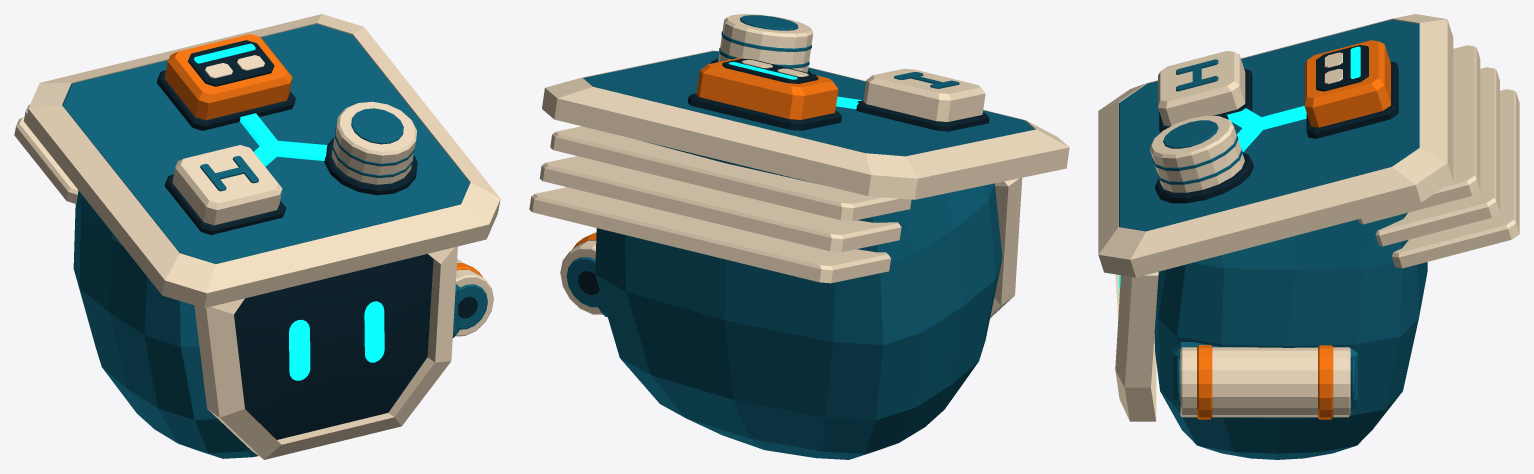
The model's file is copilot_architect_v01.glb.
3 renders of one model, left to right at view 1: azimuth 30°, elevation 25°; view 2: azimuth 150°, elevation 25°; view 3: azimuth 270°, elevation 25°, orthographic. The views are drawn at different scales.
Visible parts, largest first — view 1: pavilion_body, pavilion_eyes; view 2: pavilion_body; view 3: pavilion_body, pavilion_eyes.
Boxes of the visible parts, box(x1,y1,x2,y2) form: pavilion_body: box(14, 14, 500, 459); pavilion_eyes: box(194, 43, 384, 380); pavilion_body: box(529, 14, 1069, 459); pavilion_body: box(1098, 14, 1519, 459); pavilion_eyes: box(1119, 46, 1360, 297).
Bounding box in the file's own units: 2.95 × 2.73 × 2.9.
Materials: 2 (2 with a texture image).
